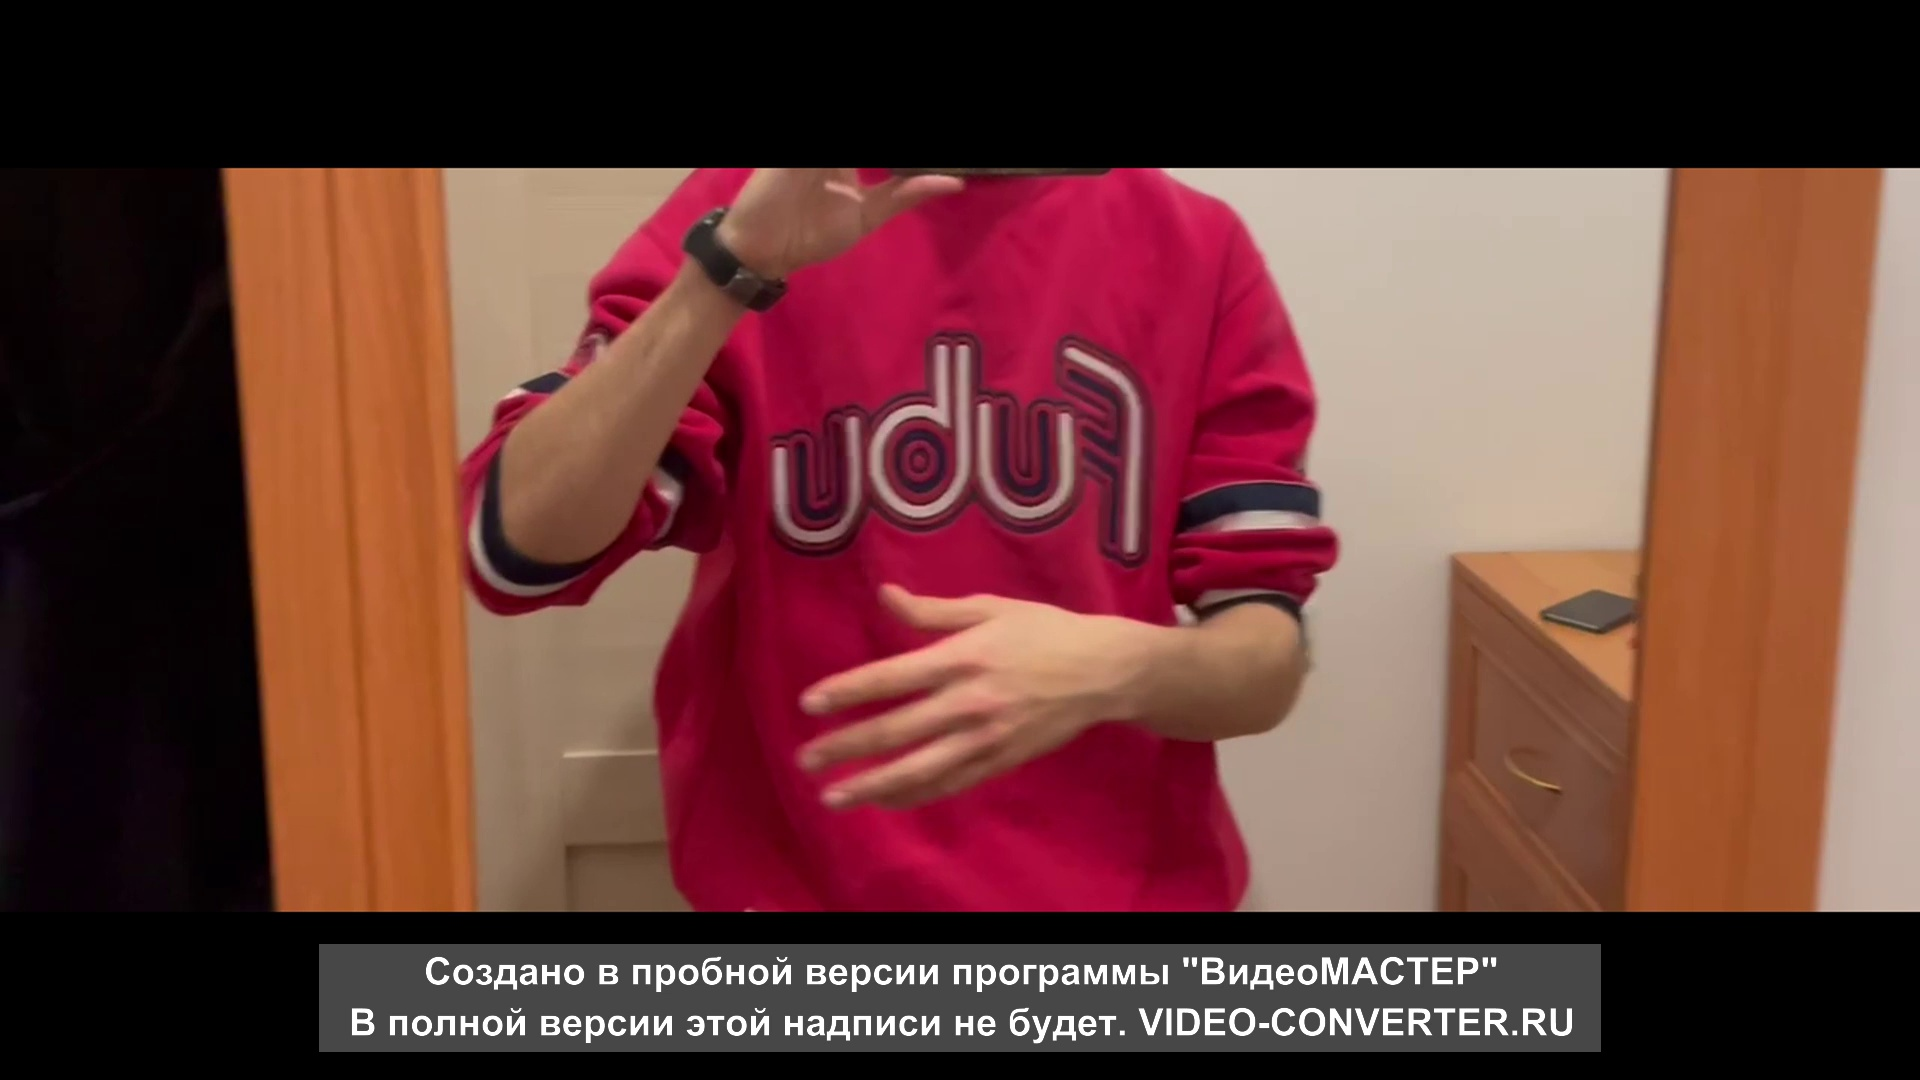Кисть: (791, 578, 1108, 806)
